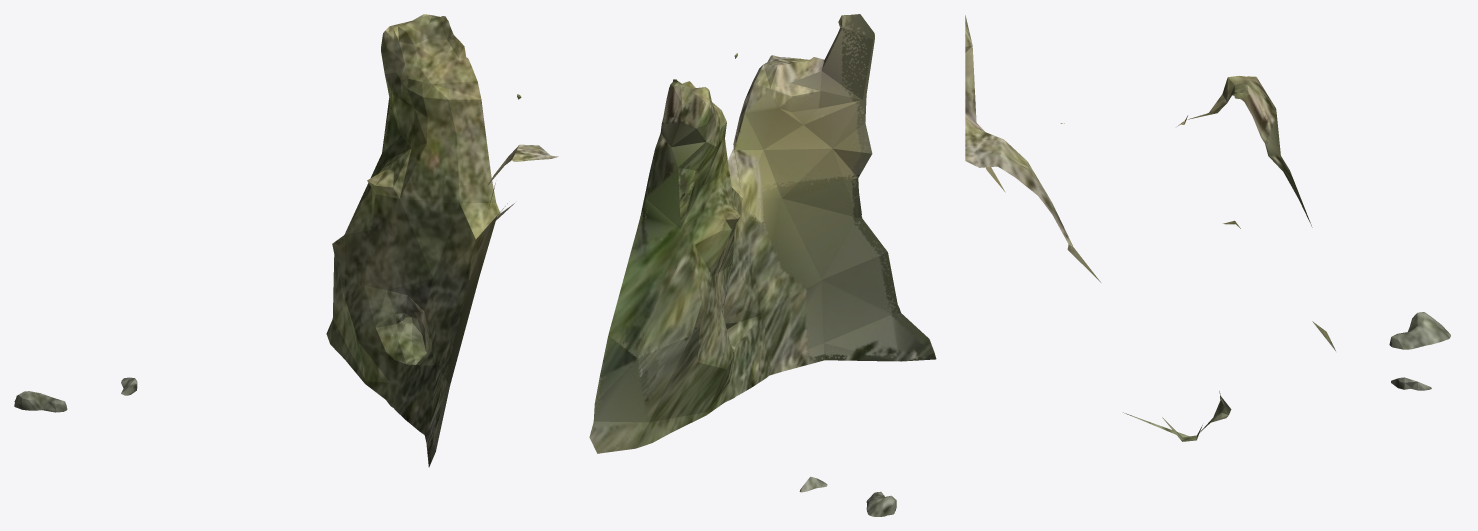
The picture shows the model from 3 angles, left to right: view 1: azimuth 30°, elevation 25°; view 2: azimuth 150°, elevation 25°; view 3: azimuth 270°, elevation 25°; orthographic projection. The views are drawn at different scales.
Size of the model in its own units: 5.48 by 5.86 by 5.9.
2 materials, 2 textured.
